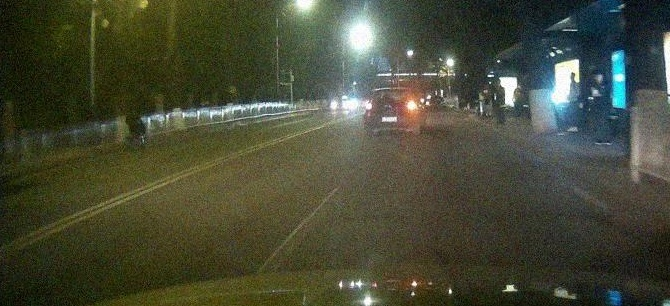L_light: (365, 102, 376, 110)
R_light: (402, 102, 416, 109)
T_light: (389, 90, 398, 93)
night-right: (363, 87, 420, 140)
